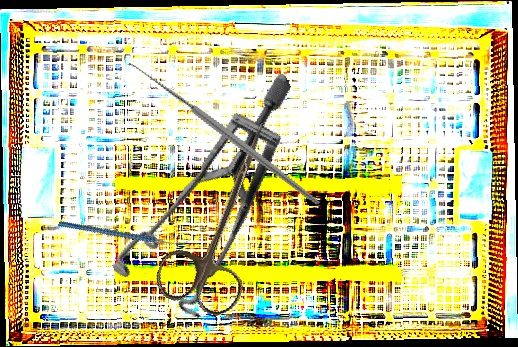Chopper: (57, 178, 192, 286)
Hook Surgical: (118, 16, 321, 255)
Iris Scissors: (150, 106, 299, 322)
Speculum: (68, 70, 363, 342)
